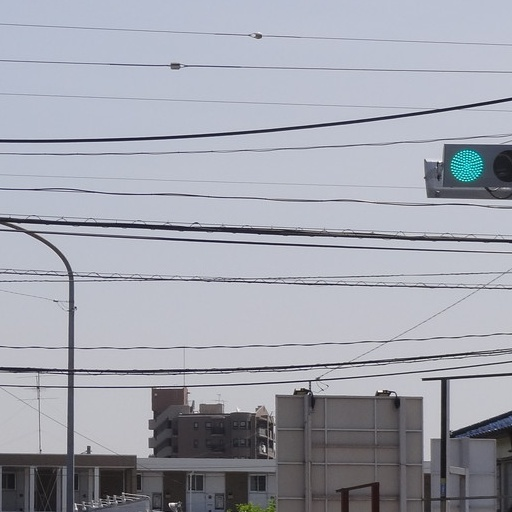Traffic_Signal_Blue: (432, 138, 510, 199)
